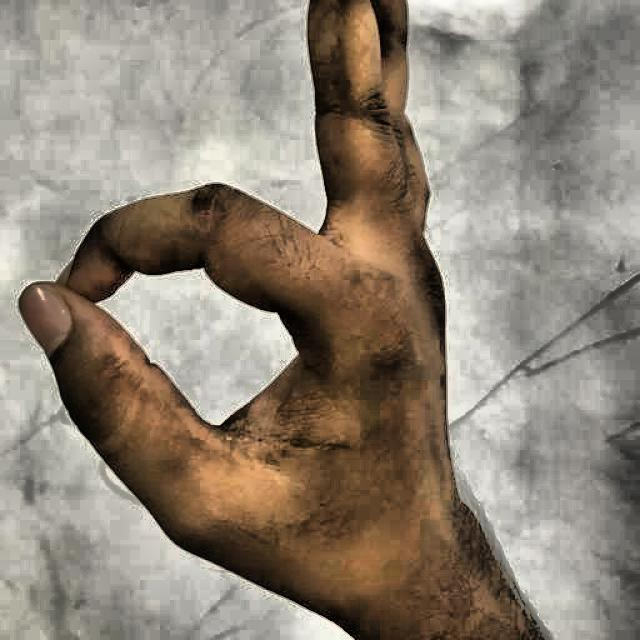Ca: (11, 0, 558, 640)
